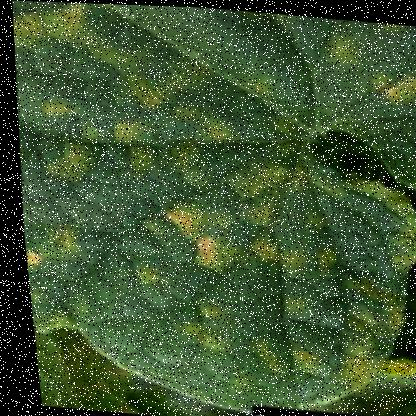DownyMildew: (11, 135, 380, 394), (1, 0, 324, 232), (257, 10, 415, 195)
